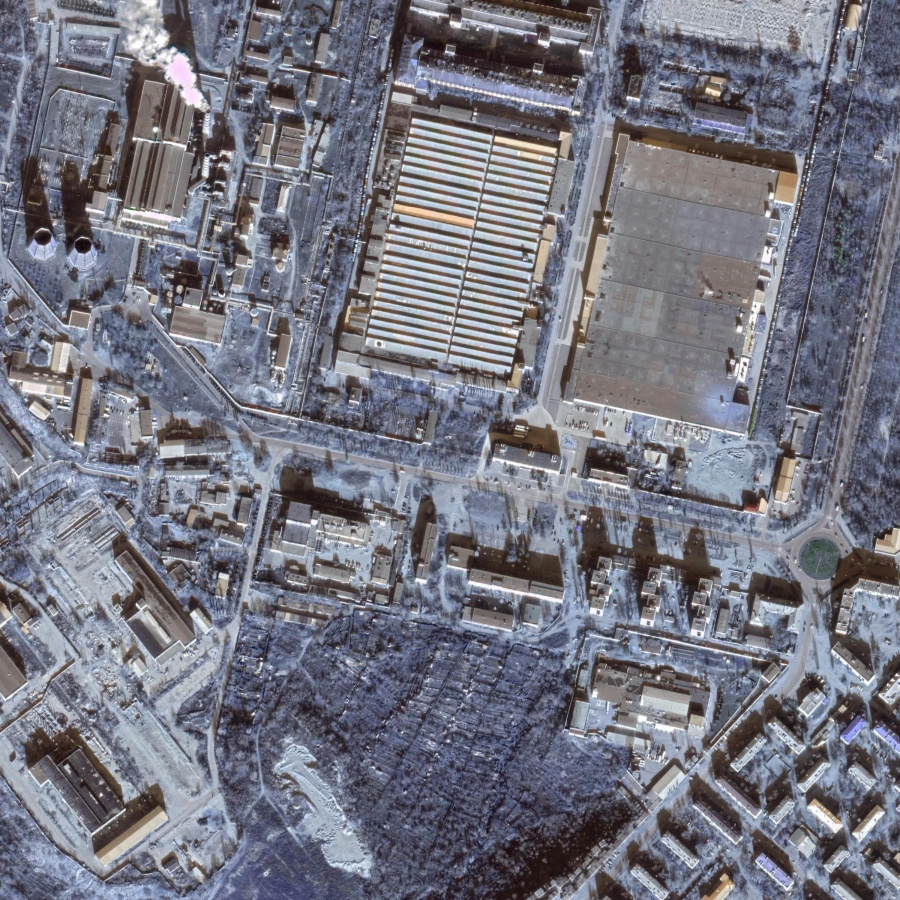PowerPlant: (14, 21, 237, 282)
